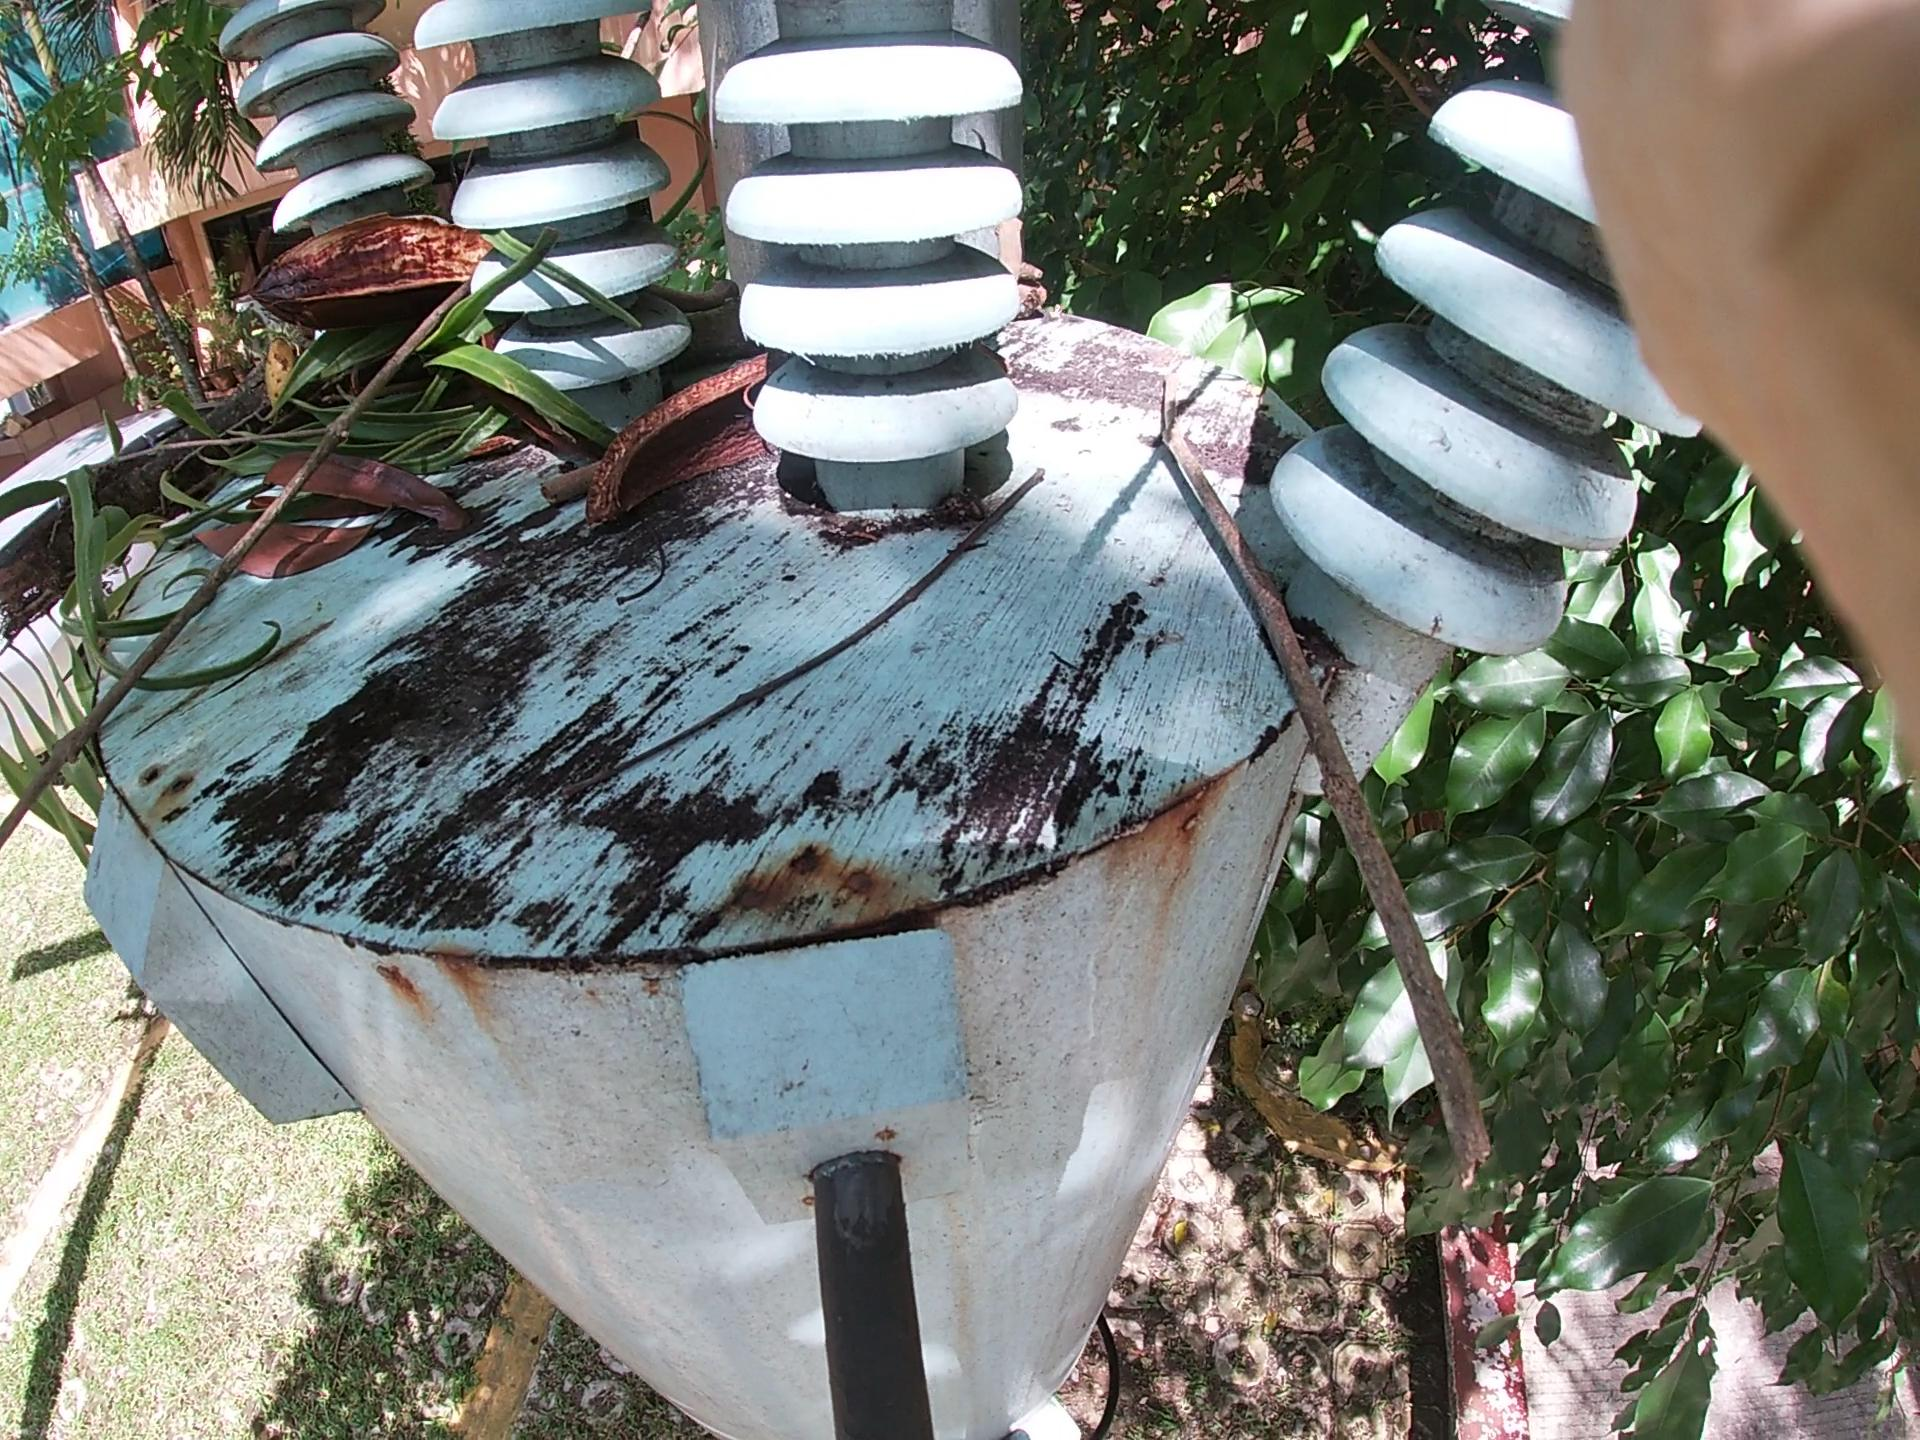branch with leaves: (45, 177, 547, 607)
leaf: (245, 374, 481, 663)
mahogany fruit: (593, 271, 853, 588), (224, 169, 543, 369)
tree branch: (14, 195, 571, 812), (1172, 440, 1545, 1221), (579, 469, 1119, 824), (531, 262, 1045, 511)
